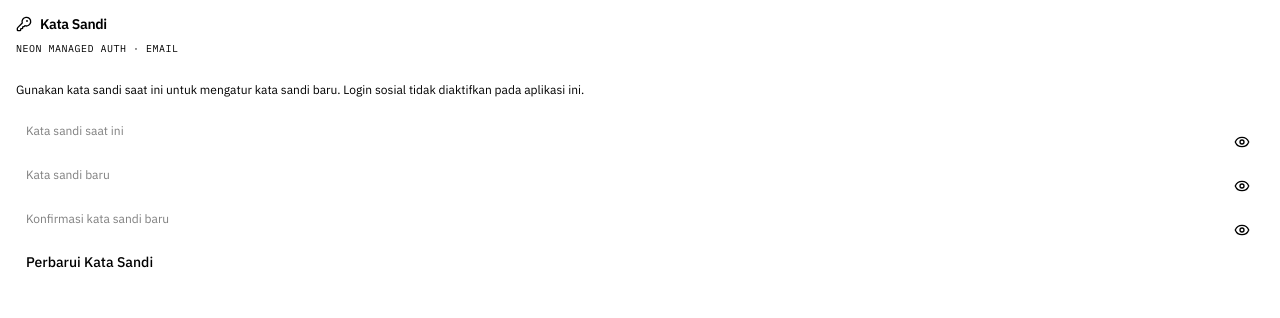
Formulir kata sandi Neon Auth › memperbarui kata sandi dengan Neon dan menampilkan pemberitahuan
The width and height of the screenshot is (1280, 318).
Type "lama1234" into the password field with placeholder "Kata sandi saat ini". click: (640, 130)
box: [16, 114, 1264, 146]
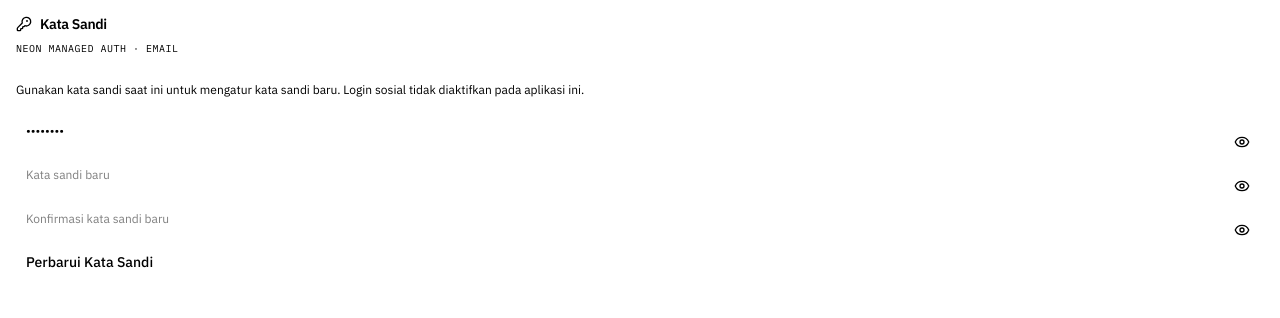
Type "rahasia123" into the password field with placeholder "Kata sandi baru". click: (640, 174)
box: [16, 158, 1264, 190]
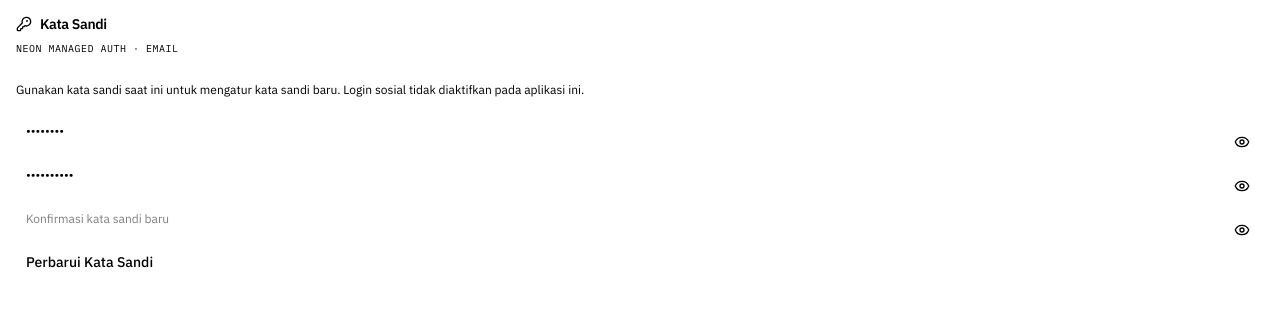
Type "rahasia123" into the password field with placeholder "Konfirmasi kata sandi baru". click: (640, 218)
box: [16, 202, 1264, 234]
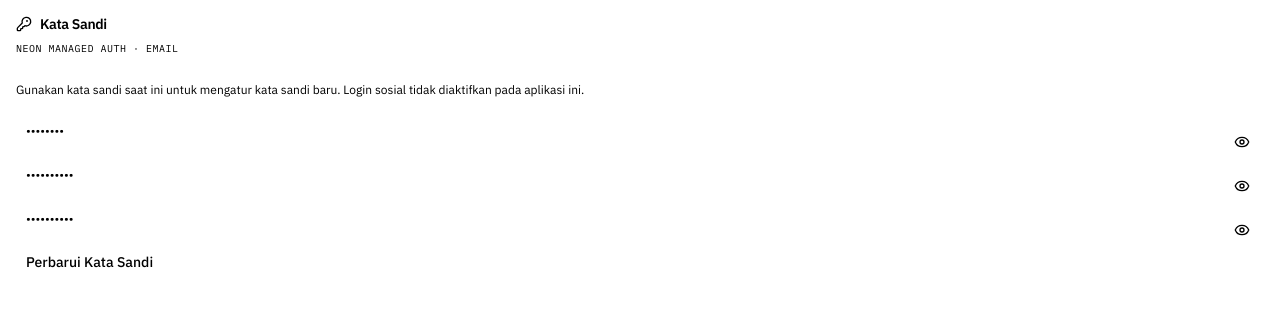
Submit the form with placeholder "Kata sandi saat ini", box [16, 114, 1264, 278]
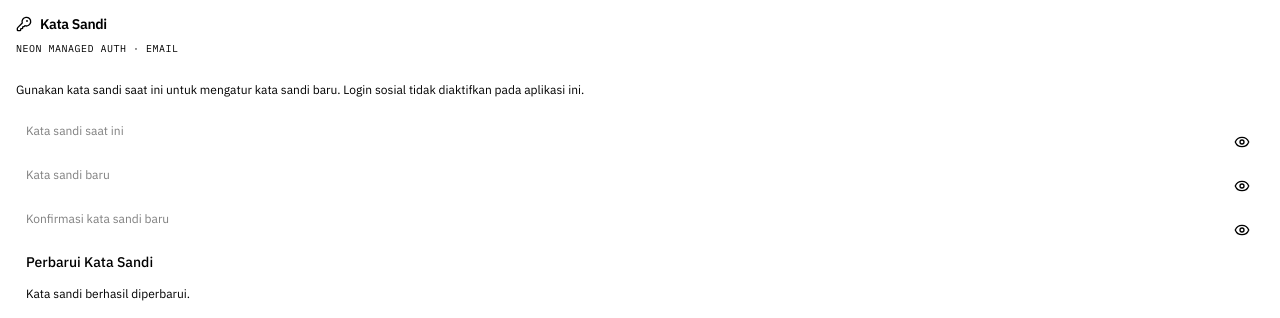
Result: the text "Kata sandi berhasil diperbarui." is shown at [26, 286, 190, 301]
